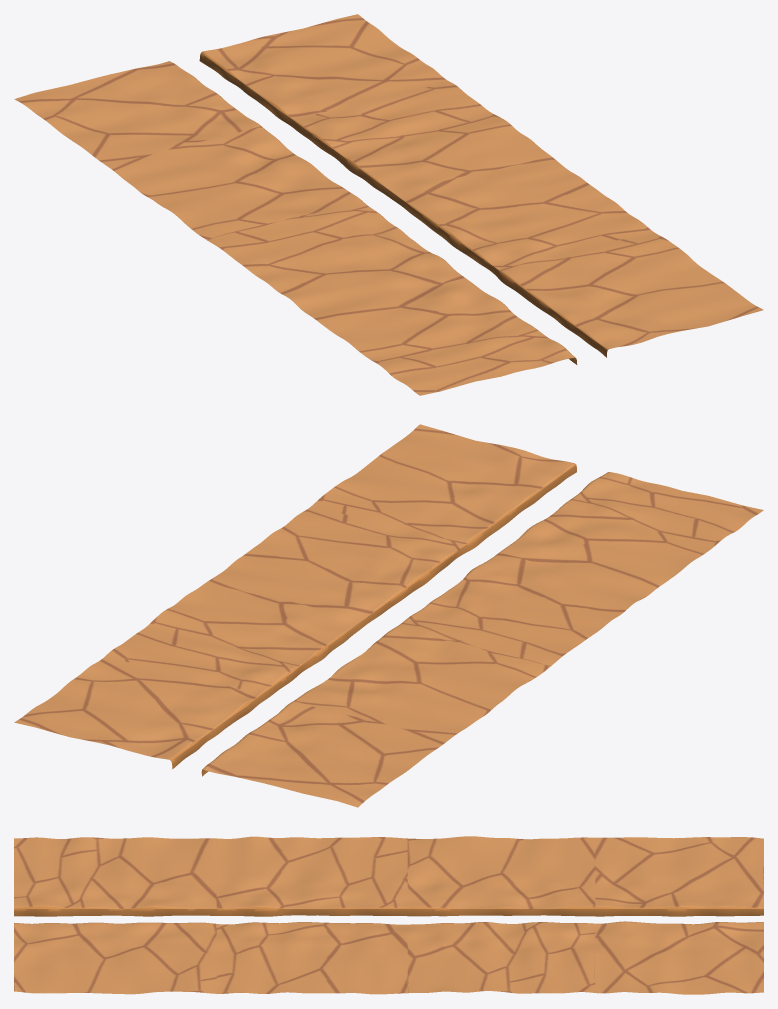
3 views of the same model, one above another, from view 1: azimuth 30°, elevation 25°; view 2: azimuth 150°, elevation 25°; view 3: azimuth 270°, elevation 25° (orthographic). The views are drawn at different scales.
Parts seen in each view (by area): view 1: Default; view 2: Default; view 3: Default.
Boxes of the visible parts, x1,y1,x2,y2 form: Default: (14, 14, 763, 395); Default: (14, 424, 763, 807); Default: (14, 836, 763, 994).
Size of the model in its own units: 1174 by 33.5 by 2400.
Materials: 1 (1 with a texture image).
